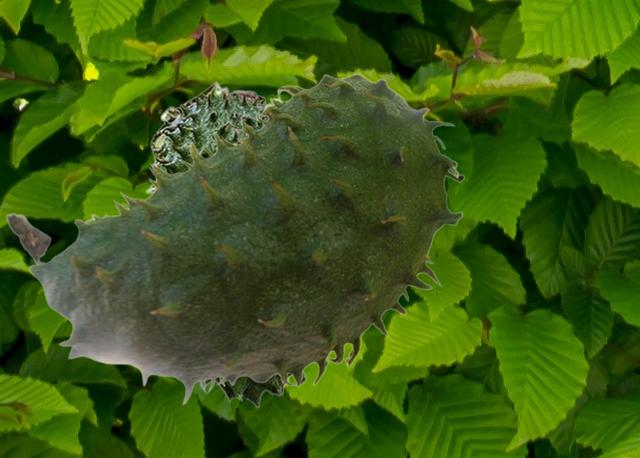guyabano: (5, 73, 464, 405), (144, 80, 309, 407)
